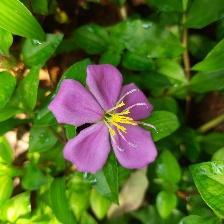malabar melastome: (47, 62, 162, 176)
